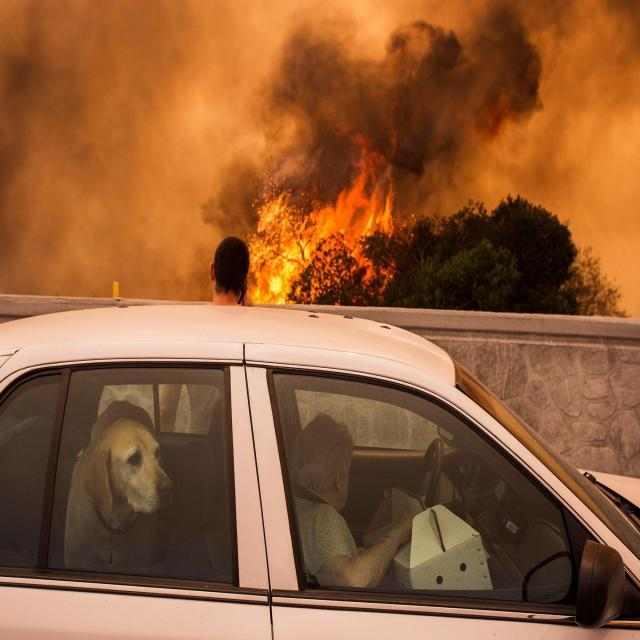Fire: (238, 103, 420, 304)
Smoke: (0, 1, 640, 304)
